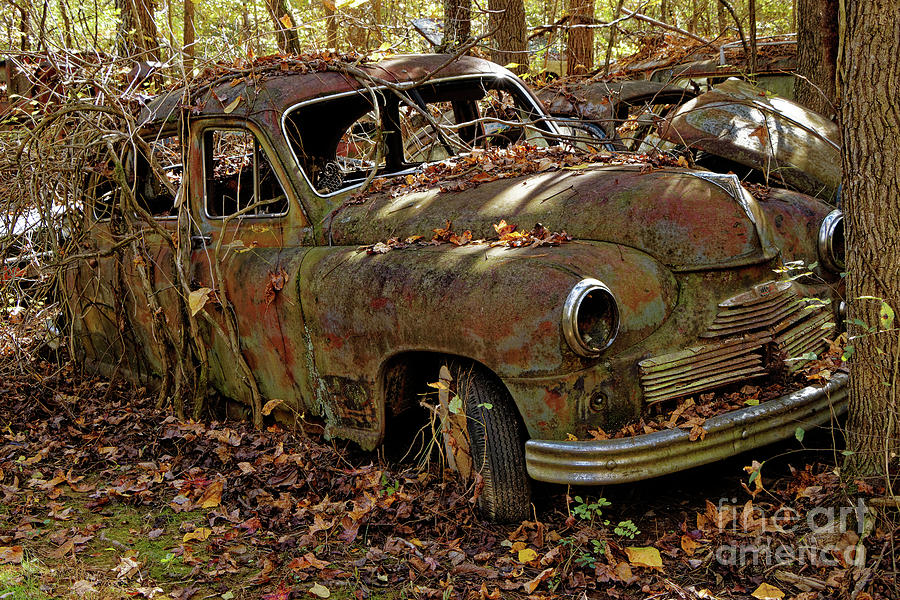rust: (325, 249, 562, 367), (183, 138, 301, 375), (150, 68, 541, 114), (571, 174, 747, 264), (665, 283, 823, 371), (543, 86, 673, 139), (668, 107, 778, 158), (535, 381, 655, 425)
